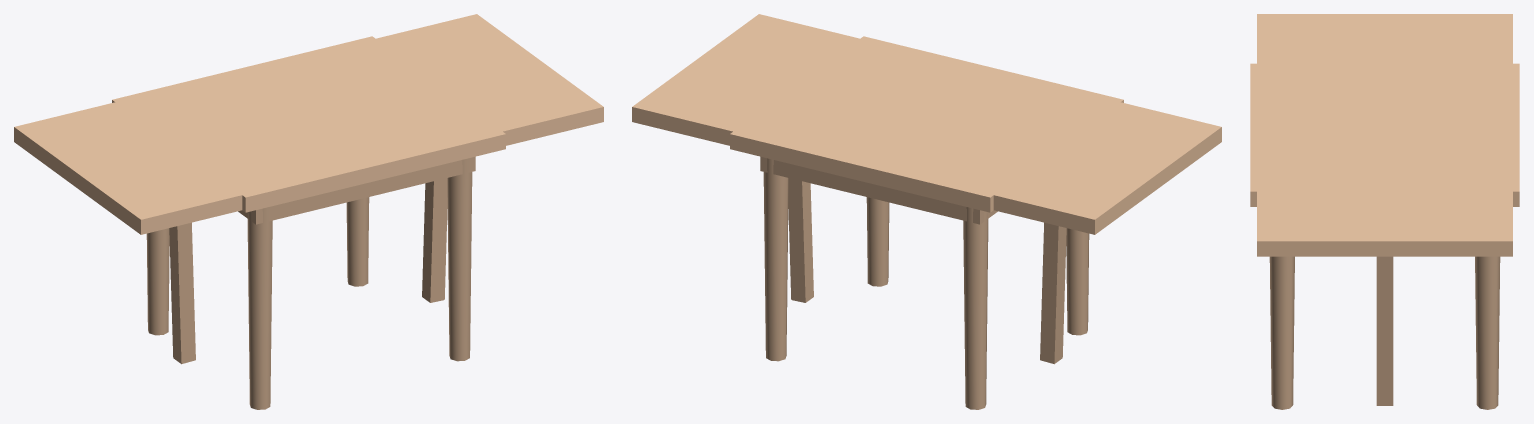
Rendered from diningDropLeaf.glb.
3 views of the same model, side by side, from view 1: azimuth 30°, elevation 25°; view 2: azimuth 150°, elevation 25°; view 3: azimuth 270°, elevation 25° (orthographic).
Parts seen in each view (by area): view 1: diningDropLeaf; view 2: diningDropLeaf; view 3: diningDropLeaf.
Part boxes in pixels (bbox=[...]): diningDropLeaf: bbox=[14, 14, 603, 409]; diningDropLeaf: bbox=[632, 14, 1221, 409]; diningDropLeaf: bbox=[1250, 14, 1519, 409].
Size of the model in its own units: 0.8 by 0.375 by 0.4.
